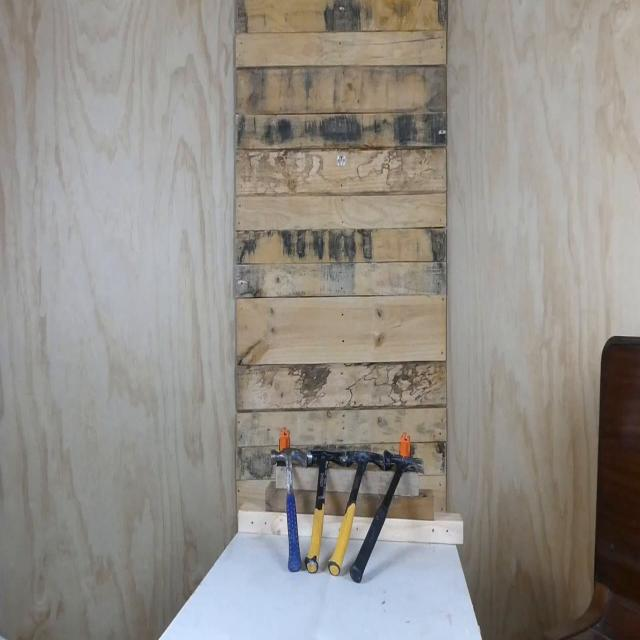hammer: (350, 451, 424, 582), (328, 448, 385, 578), (305, 448, 346, 574), (270, 447, 308, 572)
